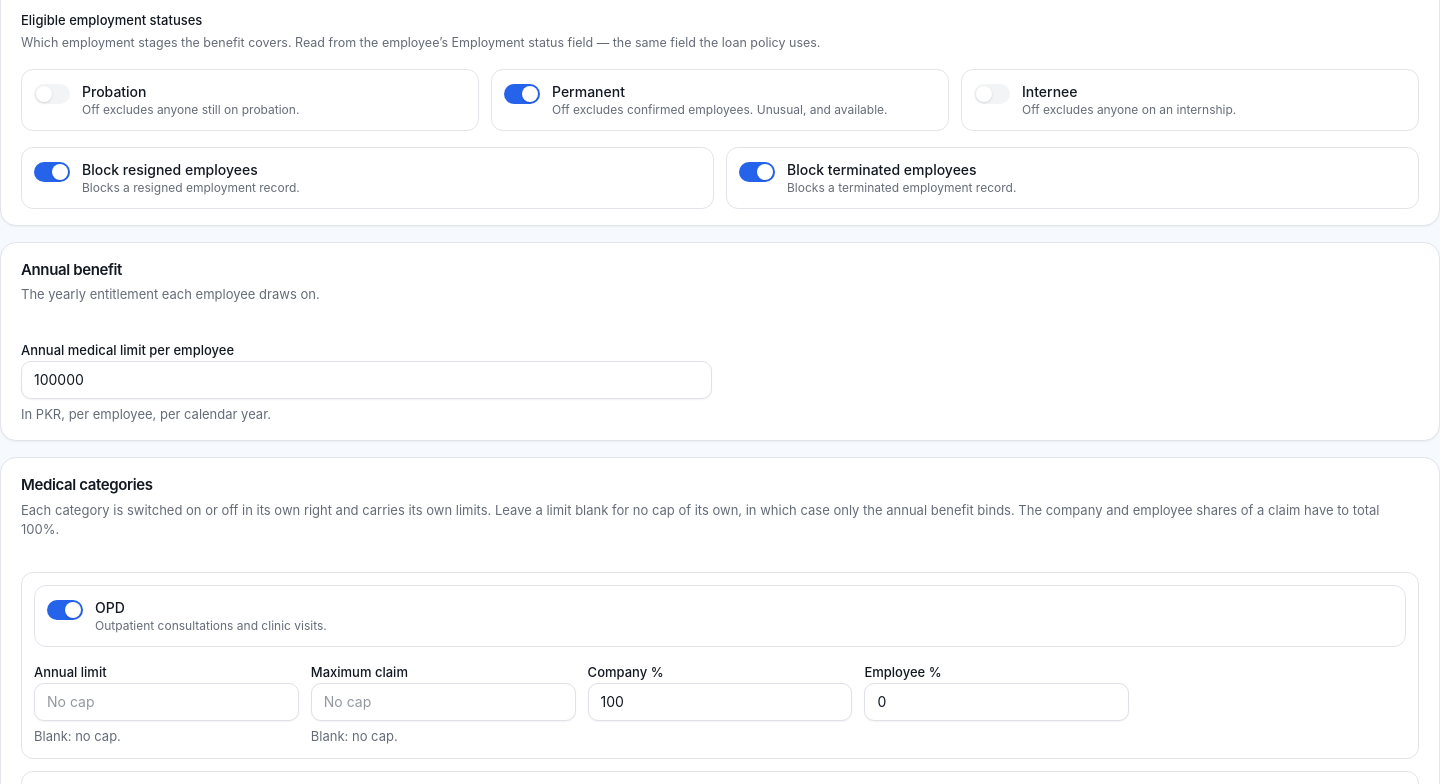
Test: saving › confirms, sends the whole policy, and keeps the saved values on reload
Later steps or results of the test are not shown.
(page scrolled)
Replace the text in the number field labelled "Annual medical limit per employee" with "250000" at {"x": 366, "y": 380}, box [21,361,712,399]
(page scrolled)
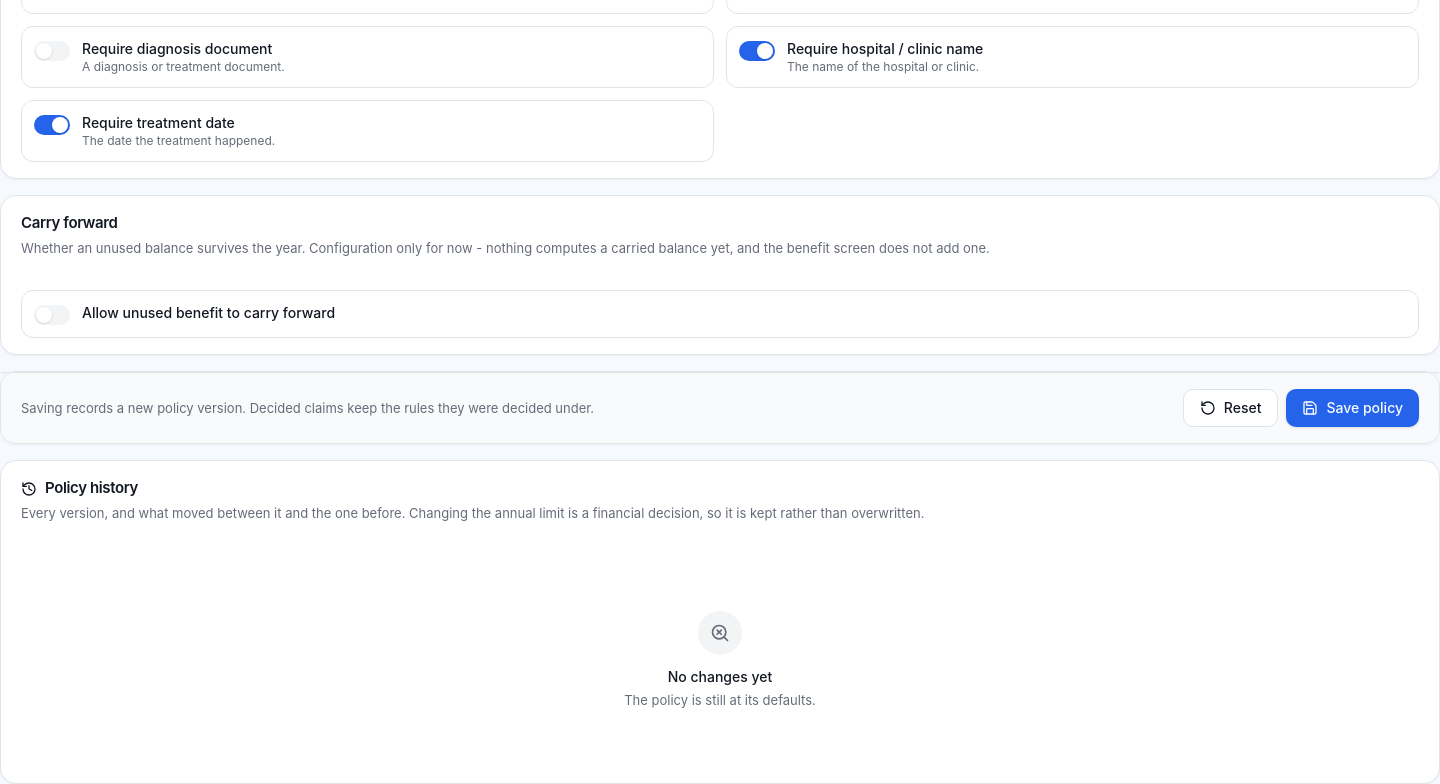
Click the button "Save policy".
click(1353, 408)  # box [1286,389,1419,427]
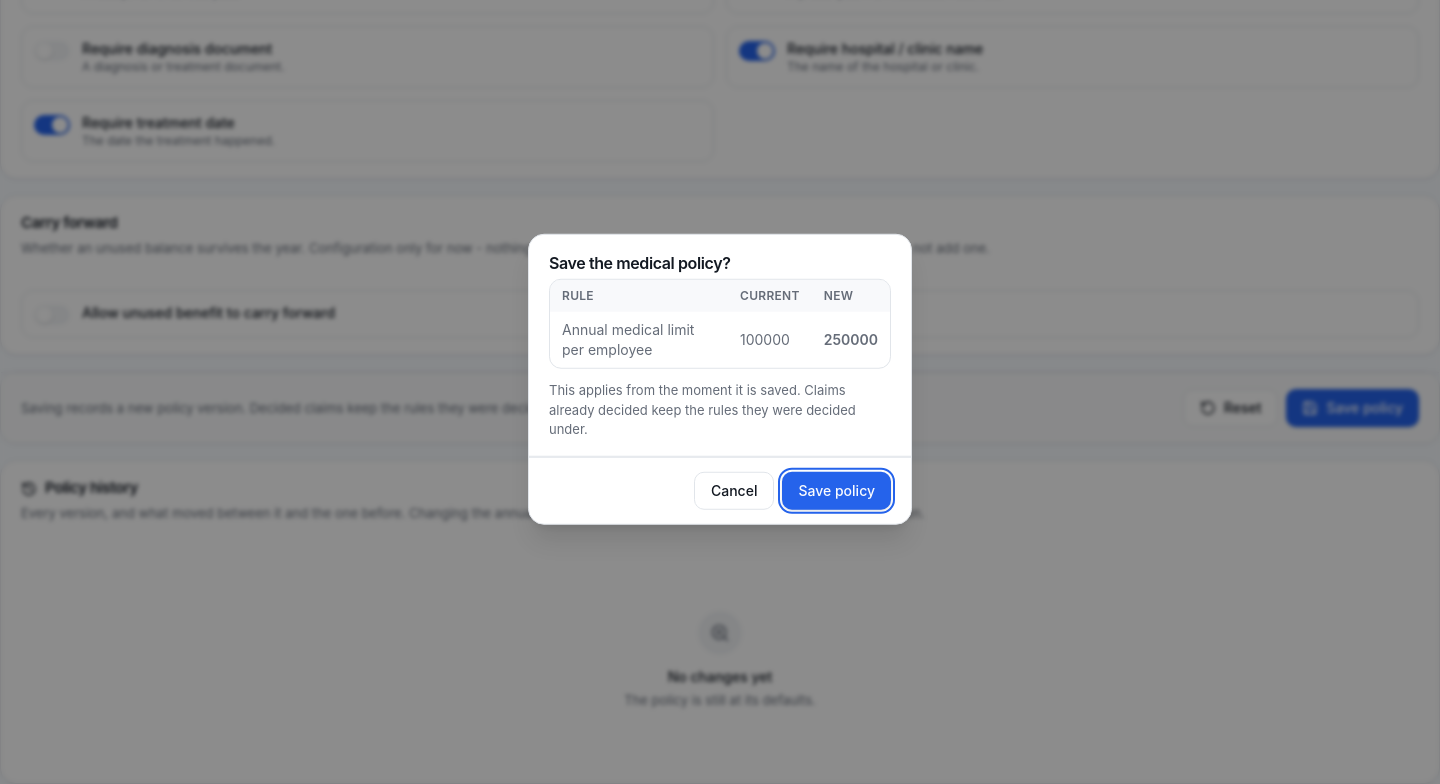
Expected: the heading "Save the medical policy?" is shown, [549,253,730,273]
Expected: the text "Annual medical limit per employee" is shown, [550,312,728,368]
Expected: the text "100000" is shown, [728,312,812,368]
